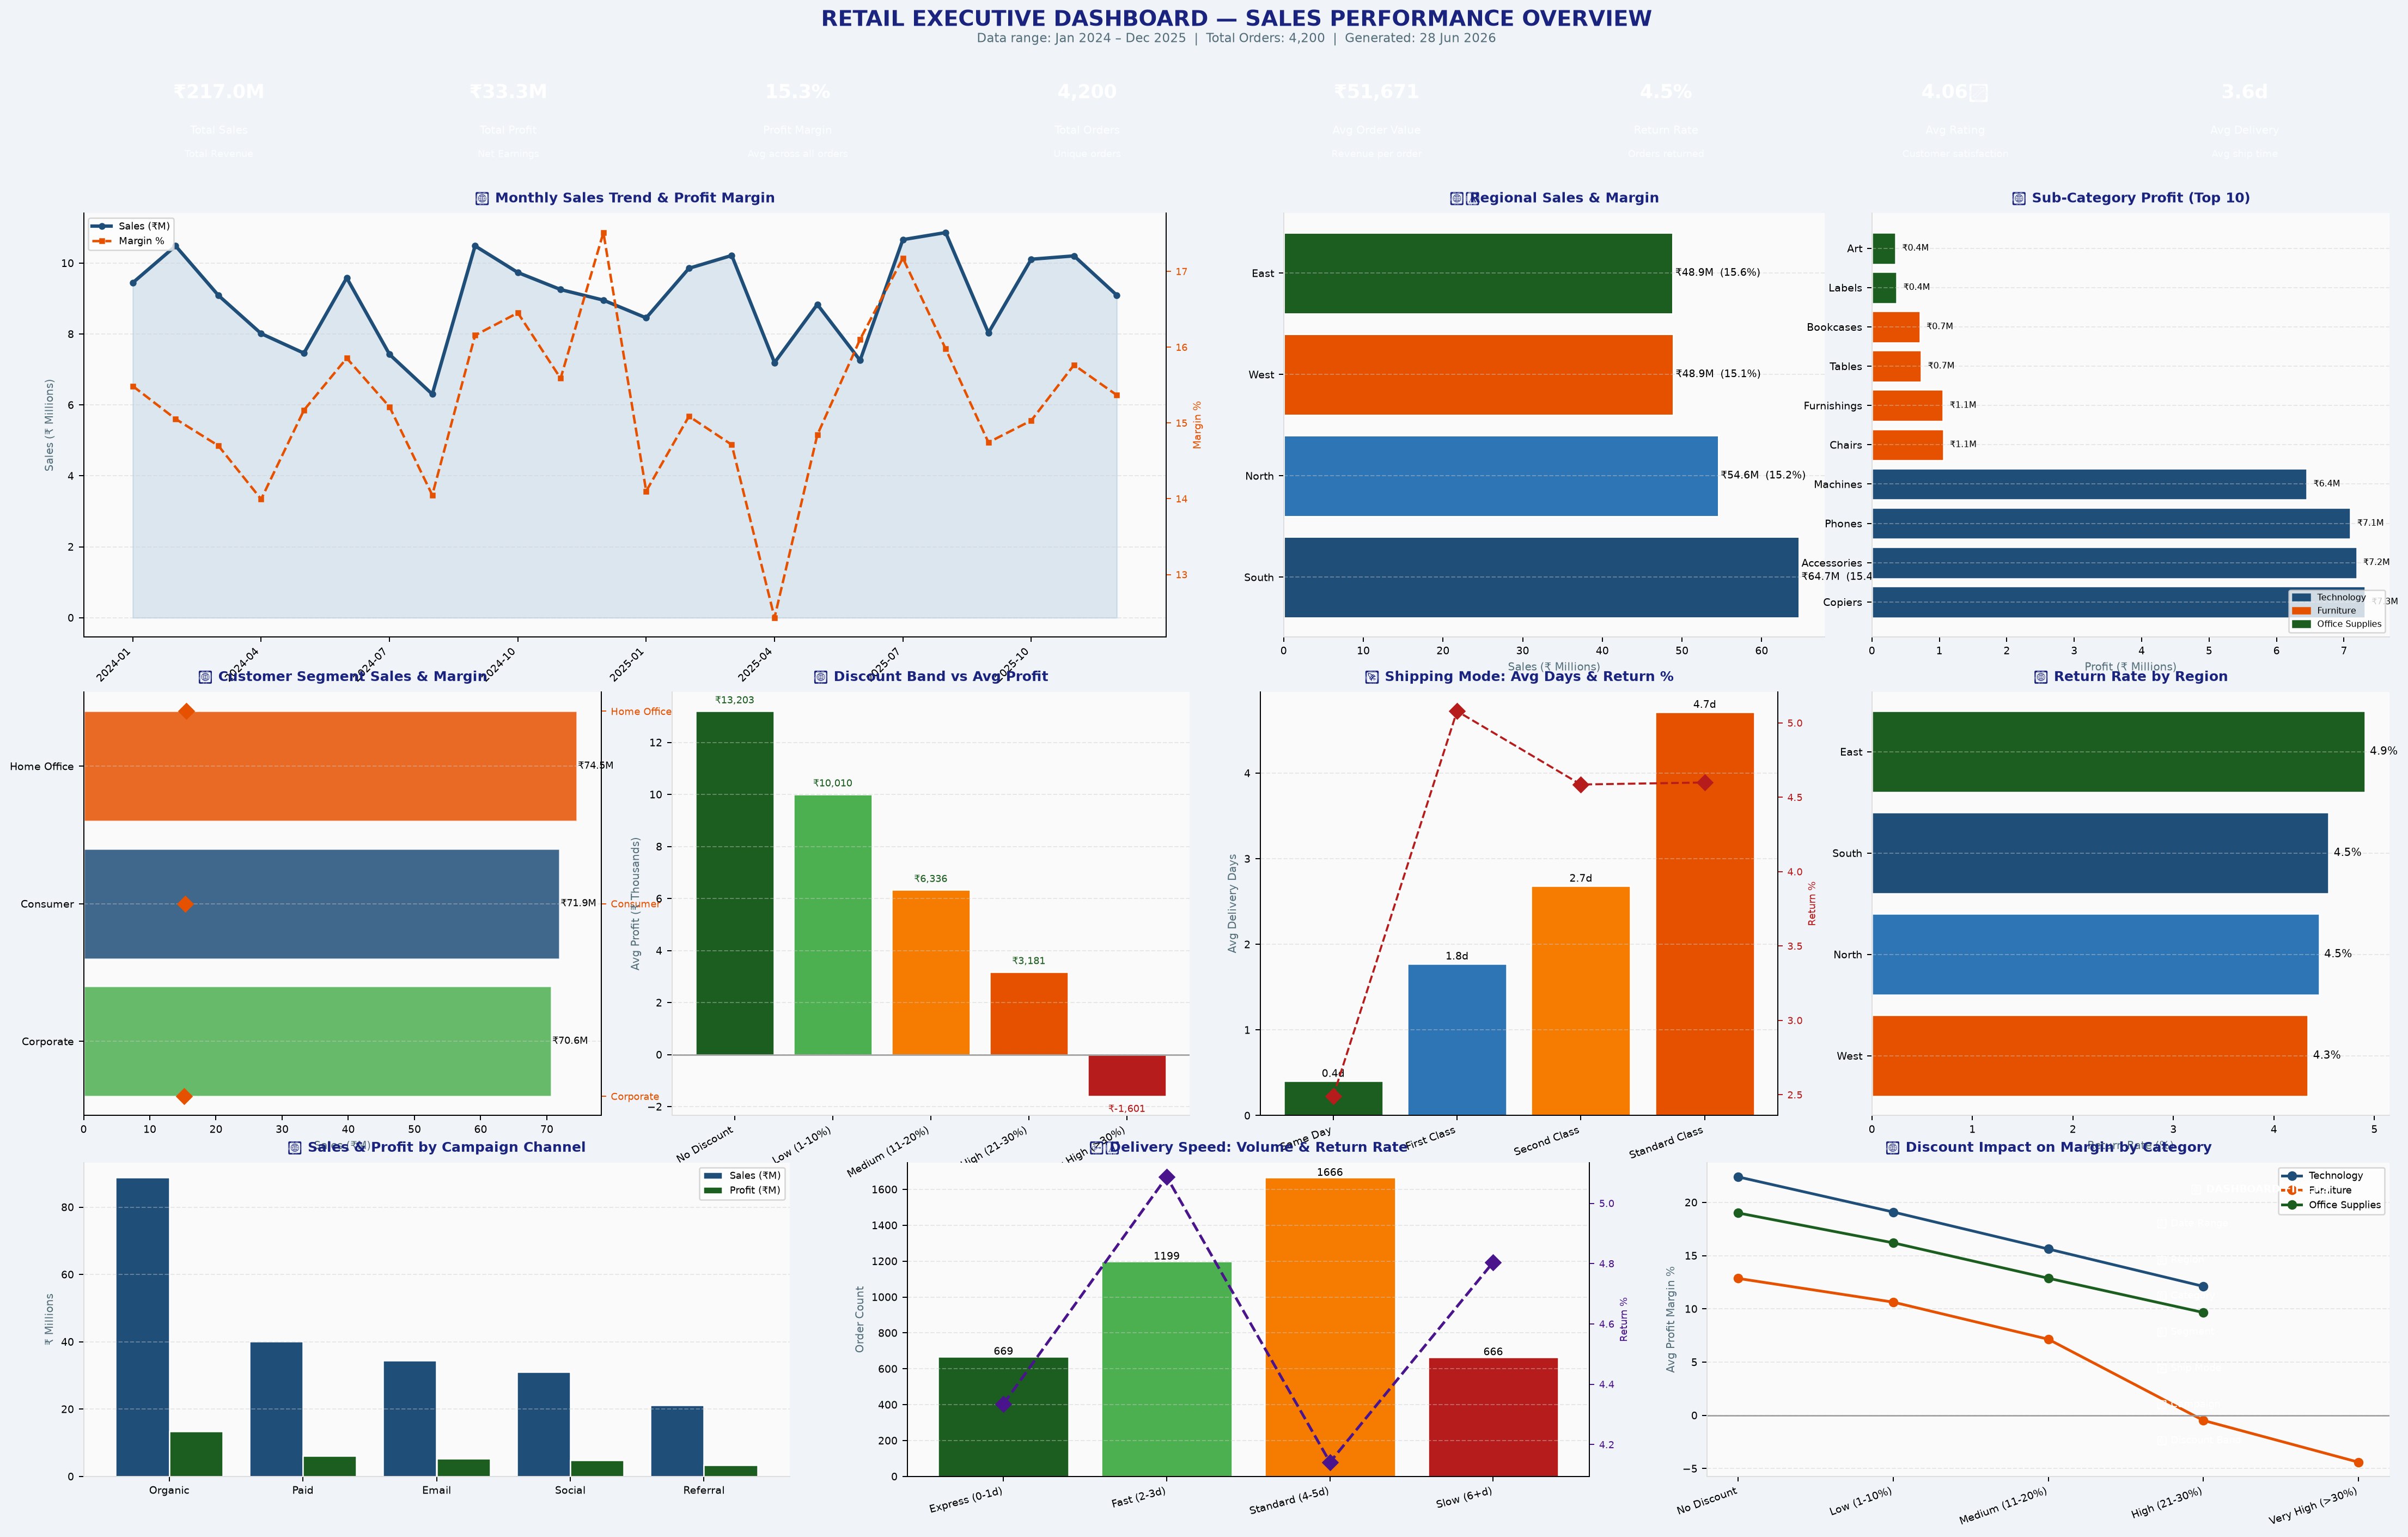

What the dashboard file says about the page in this screenshot:
{"tool":"tableau","page":{"name":"Executive Dashboard","canvas":[2000,1200],"ordinal":0},"visuals":[{"type":"worksheet","title":"Sales Trend","box":[0,0,800,96]},{"type":"worksheet","title":"Regional Performance","box":[800,0,600,96]},{"type":"worksheet","title":"Category Profitability","box":[1400,0,600,96]},{"type":"worksheet","title":"Customer Segments","box":[0,96,666.7,96]},{"type":"worksheet","title":"Discount vs Profit","box":[666.7,96,666.7,96]},{"type":"worksheet","title":"Shipping Performance","box":[1333.3,96,666.7,96]},{"type":"worksheet","title":"Return Analysis","box":[0,192,1000,96]},{"type":"worksheet","title":"Campaign Channel","box":[1000,192,1000,96]}]}

Visuals, with their boxes on the page's 2000x1200 design canvas (x1, y1, x2, y2). These are canvas units, not pixel positions in the 2408x1537 screenshot, which may show the page scaled, cropped or inside an application window:
"Sales Trend" worksheet: [x1=0, y1=0, x2=800, y2=96]
"Regional Performance" worksheet: [x1=800, y1=0, x2=1400, y2=96]
"Category Profitability" worksheet: [x1=1400, y1=0, x2=2000, y2=96]
"Customer Segments" worksheet: [x1=0, y1=96, x2=667, y2=192]
"Discount vs Profit" worksheet: [x1=667, y1=96, x2=1333, y2=192]
"Shipping Performance" worksheet: [x1=1333, y1=96, x2=2000, y2=192]
"Return Analysis" worksheet: [x1=0, y1=192, x2=1000, y2=288]
"Campaign Channel" worksheet: [x1=1000, y1=192, x2=2000, y2=288]
